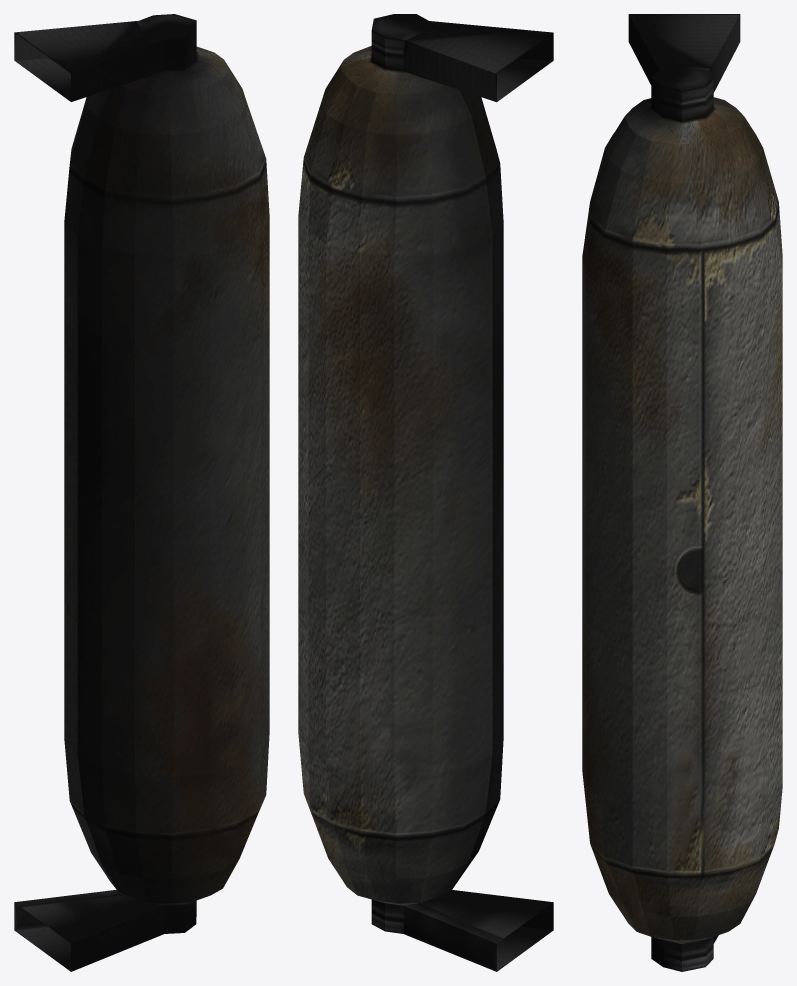
The model's file is longt.obj.
3 views of the same model, side by side, from view 1: azimuth 30°, elevation 25°; view 2: azimuth 150°, elevation 25°; view 3: azimuth 270°, elevation 25° (orthographic).
Visible parts, largest first — view 1: Group; view 2: Group; view 3: Group.
Part boxes in pixels (x1,y1,x2,y2): Group: (14, 14, 269, 971); Group: (298, 14, 553, 971); Group: (582, 14, 782, 971).
Size of the model in its own units: 12.43 by 50.93 by 10.43.
